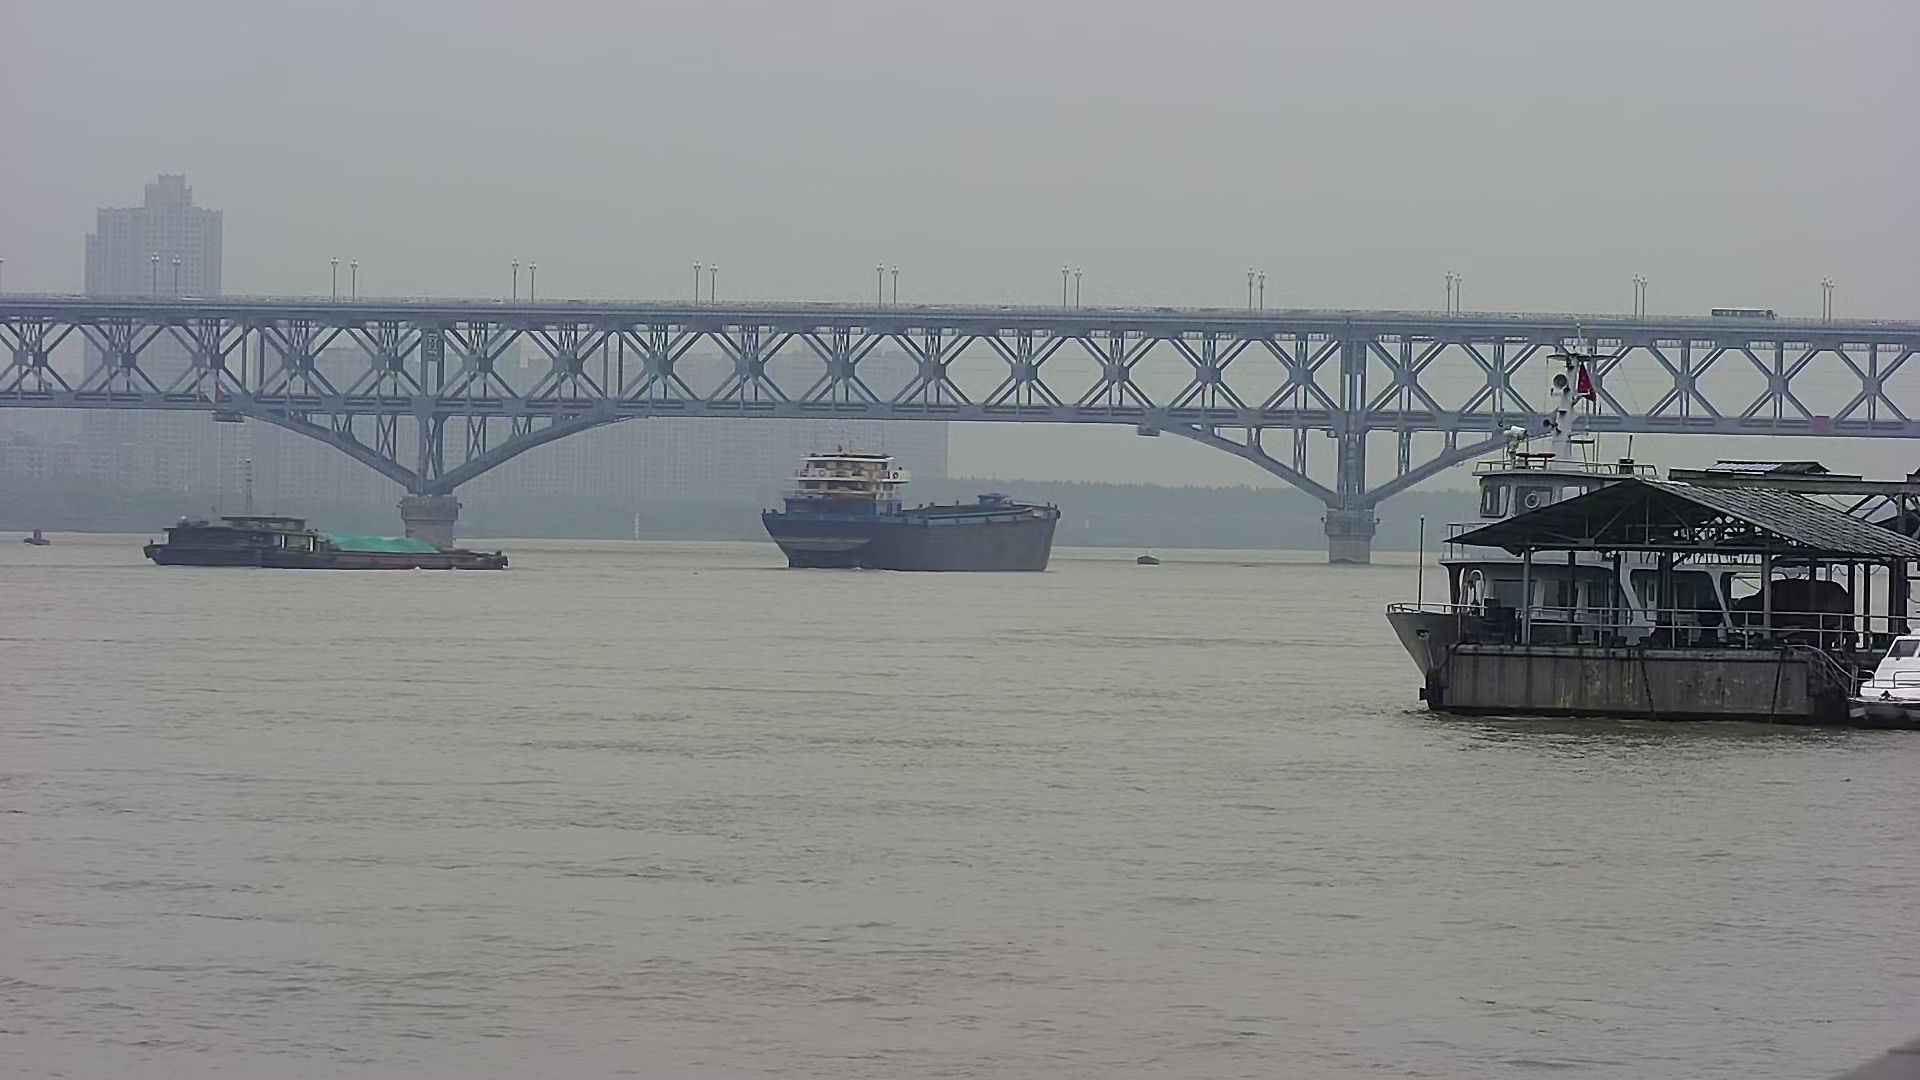bridge: (8, 268, 1903, 489)
harbor: (1393, 448, 1908, 742)
ship: (750, 444, 1068, 579), (133, 508, 517, 580)
